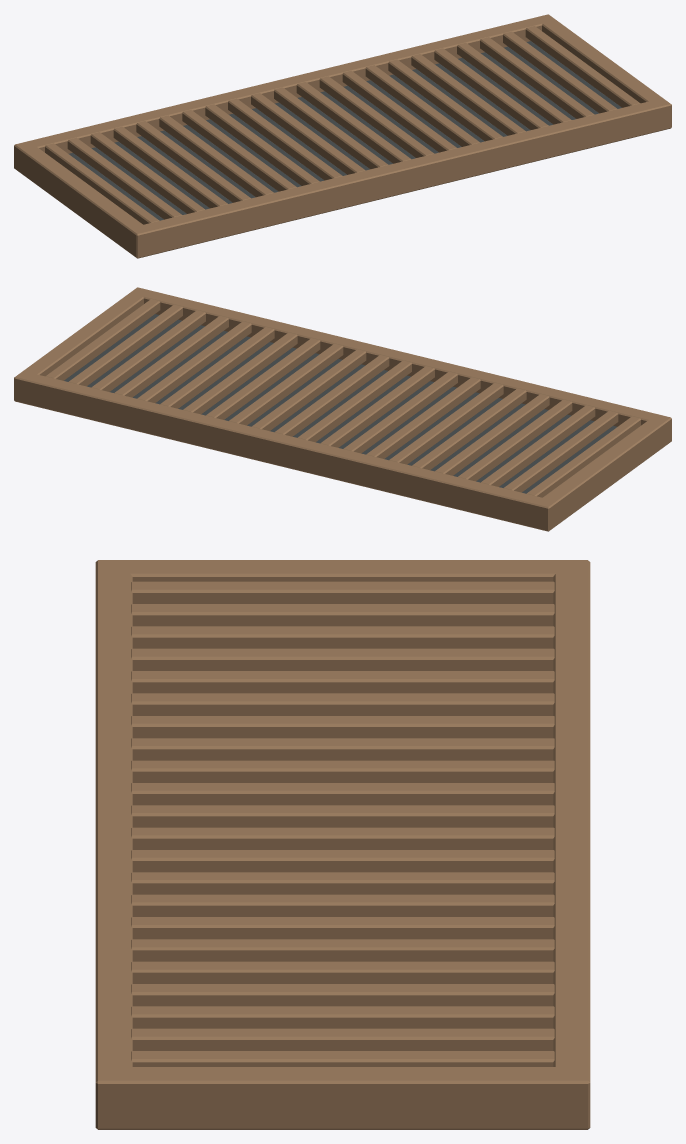
File: SM_LS_Drain.fbx
3 views of the same model, one above another, from view 1: azimuth 30°, elevation 25°; view 2: azimuth 150°, elevation 25°; view 3: azimuth 270°, elevation 25° (orthographic). The views are drawn at different scales.
Visible parts, largest first — view 1: SM_LS_Drain; view 2: SM_LS_Drain; view 3: SM_LS_Drain.
Part boxes in pixels (left/top/right/bottom): SM_LS_Drain: left=14, top=14, right=671, bottom=258; SM_LS_Drain: left=14, top=287, right=671, bottom=531; SM_LS_Drain: left=95, top=560, right=590, bottom=1129.
Size of what is drawn, in the model's own units: 1 by 0.4 by 0.05.
